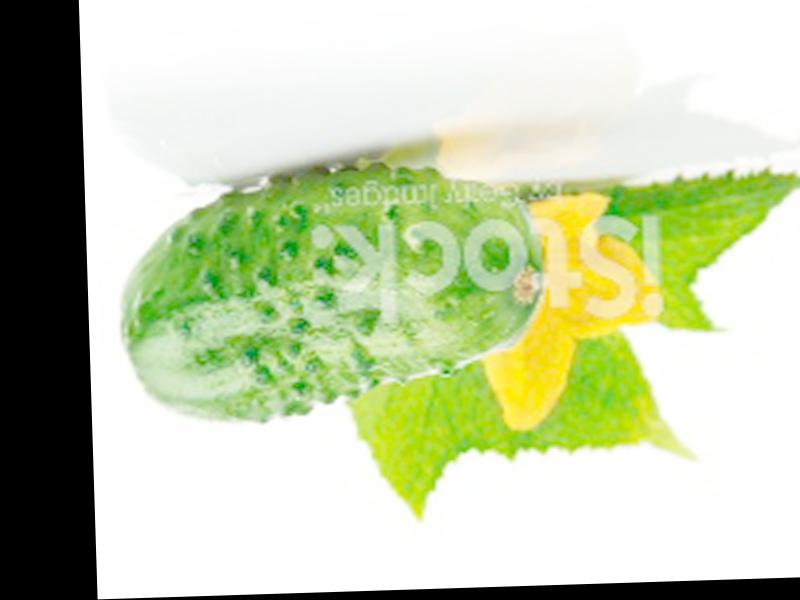Cucumber: (115, 162, 542, 426)
